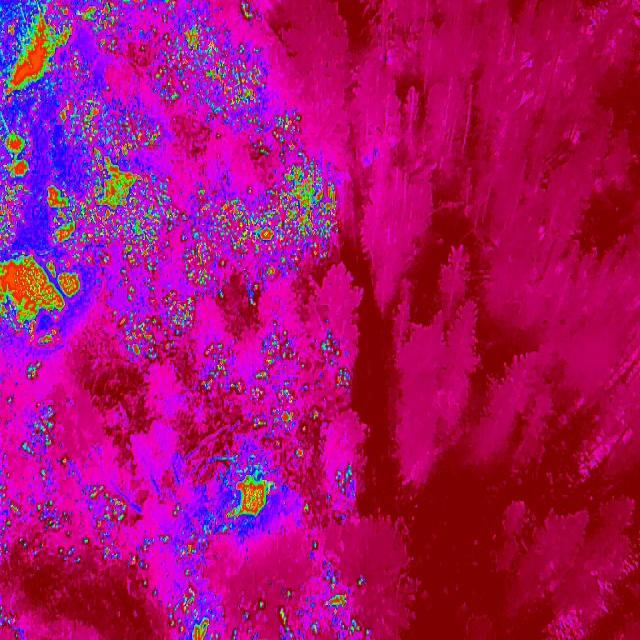fire: (190, 183, 348, 285), (60, 93, 174, 175), (251, 331, 321, 463), (0, 251, 86, 351), (85, 152, 173, 246), (176, 27, 270, 115), (1, 12, 81, 102), (116, 286, 207, 362), (226, 470, 284, 526), (86, 482, 130, 540), (44, 181, 82, 244), (204, 344, 248, 396), (2, 132, 38, 190), (323, 330, 357, 390), (20, 403, 56, 459), (271, 107, 308, 161), (168, 530, 210, 569), (330, 456, 364, 502), (86, 0, 121, 38), (181, 606, 217, 640), (44, 503, 76, 535), (128, 545, 155, 570), (20, 360, 42, 380), (238, 2, 258, 24), (326, 591, 349, 610), (61, 455, 76, 471), (279, 607, 290, 628)
